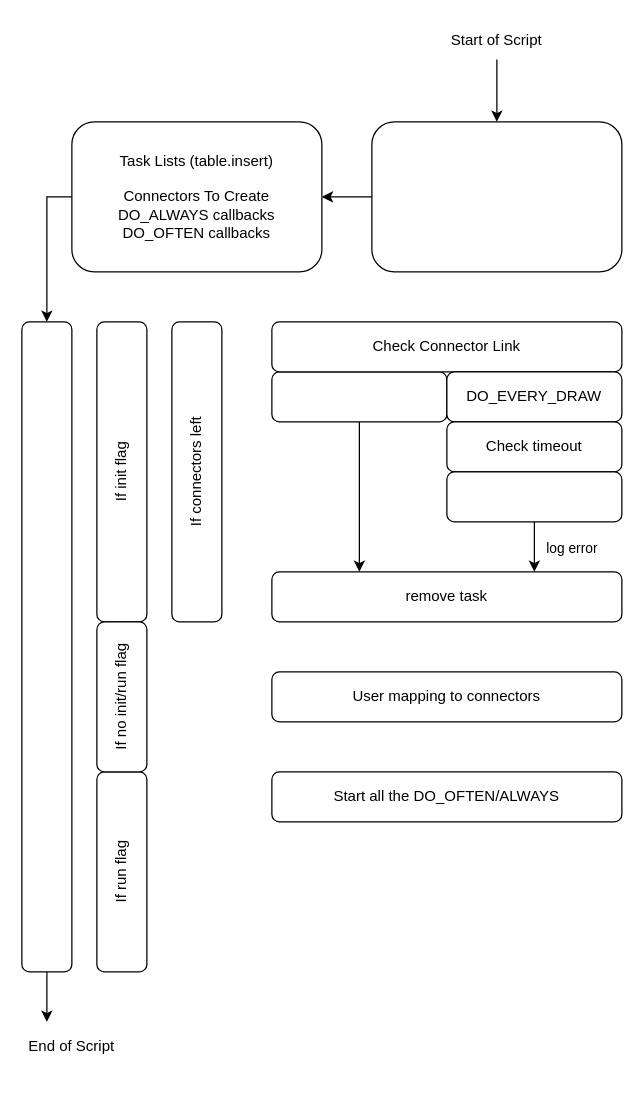
This 644x1093 diagram has some shape labels left out. Here are the shapes that lost their labels. From the top down, the box of each, then its label:
(371, 121, 622, 272): Require Modules Base X-Plane Joysticks Plugins Aircraft
(271, 371, 447, 422): Create Connector
(446, 471, 622, 522): Override link to none
(21, 321, 72, 972): DO_EVERY_FRAME("xfdmInitRunner")
